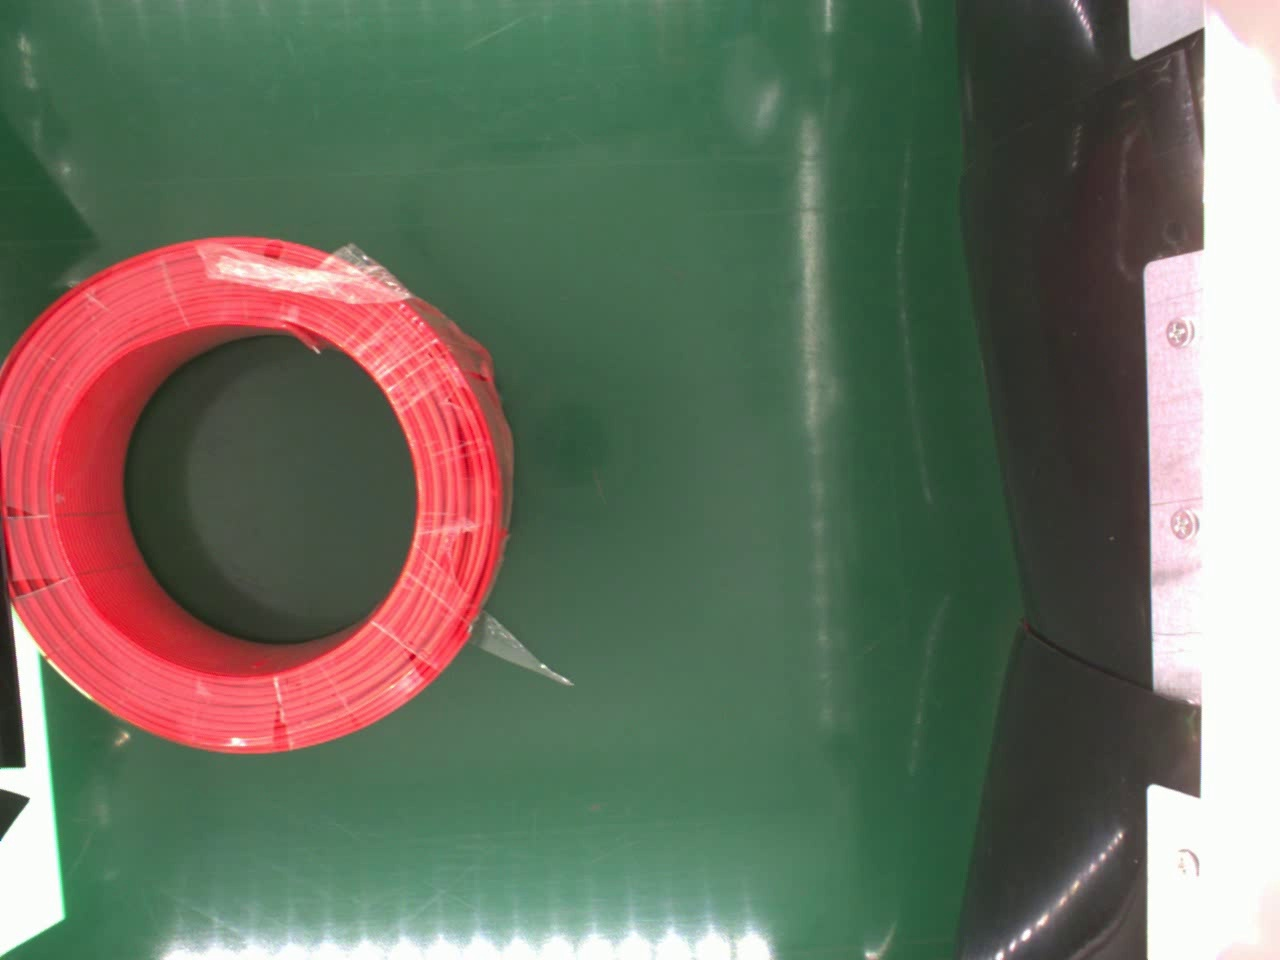red: (0, 236, 515, 760)
